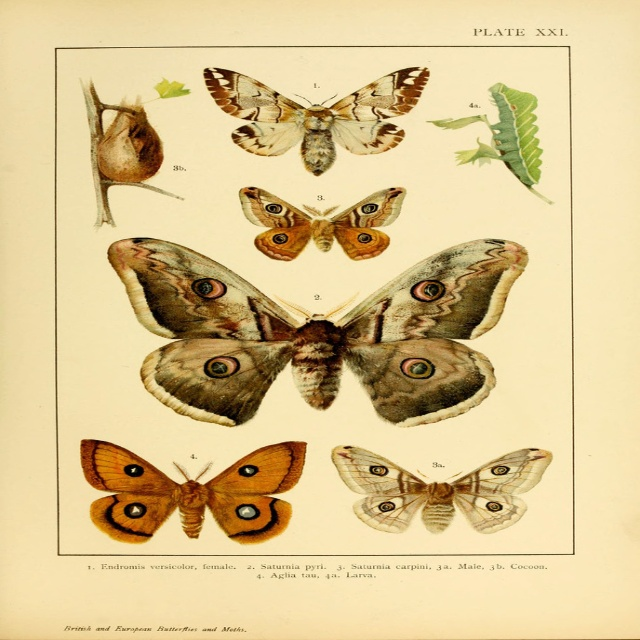Butterfly: (104, 230, 537, 430), (204, 53, 425, 174), (71, 437, 309, 549), (333, 444, 560, 539), (239, 177, 405, 262)
